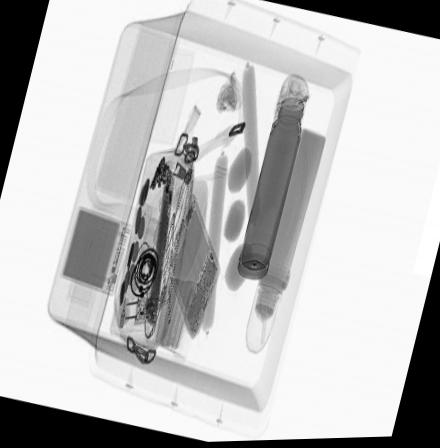Powerbank: (57, 205, 132, 298)
